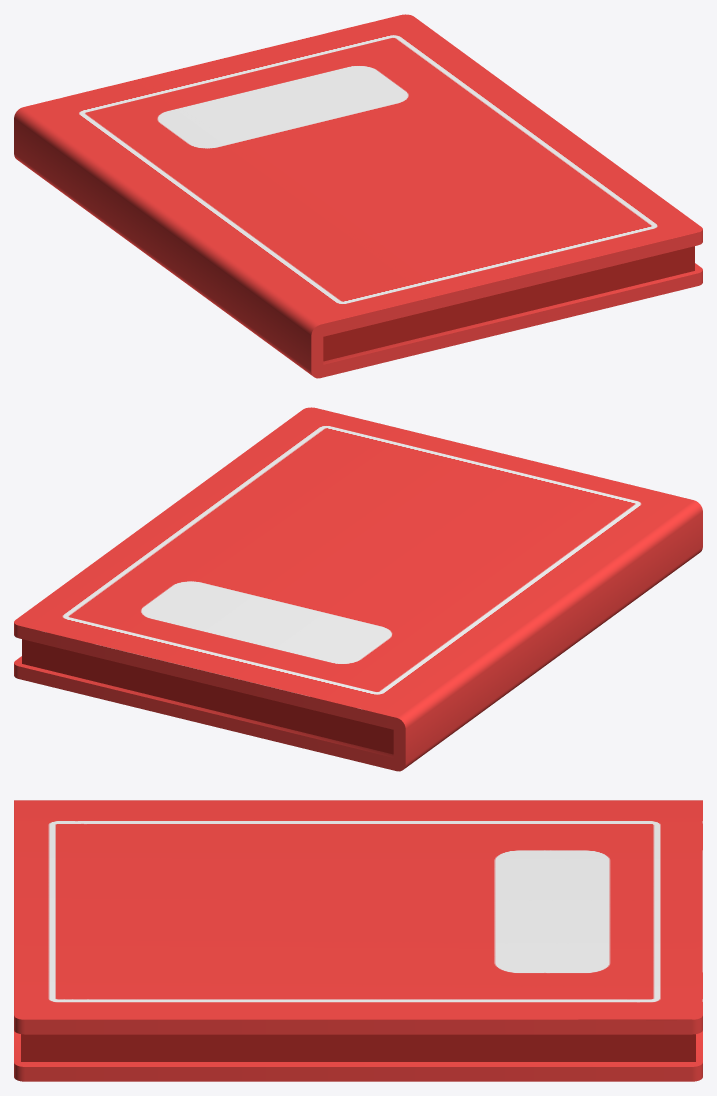
Rendered from book2 1.fbx.
3 renders of one model, top to bottom at view 1: azimuth 30°, elevation 25°; view 2: azimuth 150°, elevation 25°; view 3: azimuth 270°, elevation 25°, orthographic. The views are drawn at different scales.
Visible parts, largest first — view 1: Cube.010; view 2: Cube.010; view 3: Cube.010.
Part boxes in pixels (bbox=[...]): Cube.010: bbox=[14, 14, 702, 378]; Cube.010: bbox=[14, 407, 702, 771]; Cube.010: bbox=[14, 800, 702, 1081].
Bounding box in the file's own units: 30.12 × 3.89 × 39.25.
